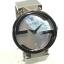watch: (13, 10, 57, 53)
